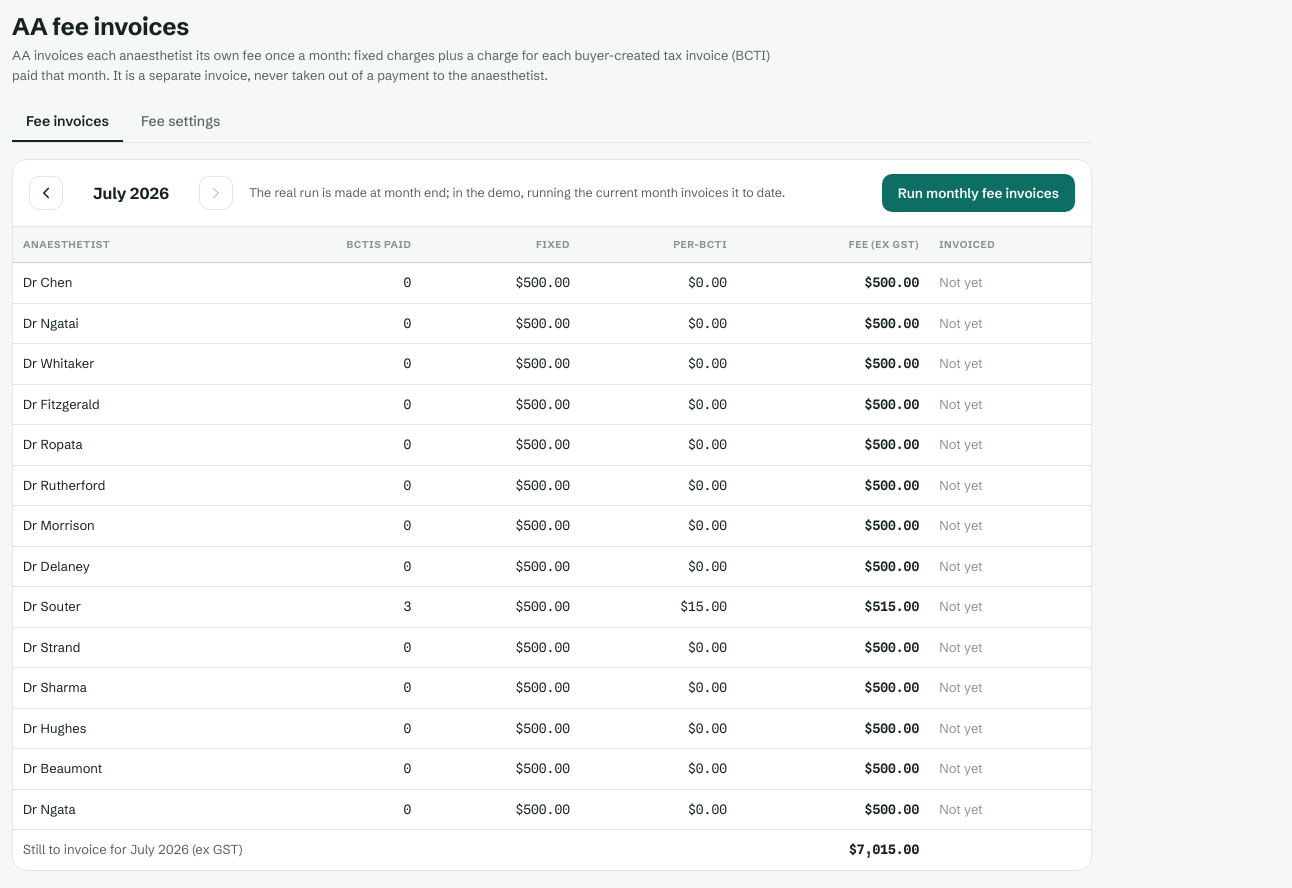
it: AA fee invoices screen (catch-up Phase 16) › previews every active anaesthetist for the month and a run adds their invoices
This screenshot has width=1292, height=888.
What coordinates should you click on to do the following:
click the button "Run monthly fee invoices"
I would click on:
 (978, 193)
Its box is 882,174 -> 1075,212.
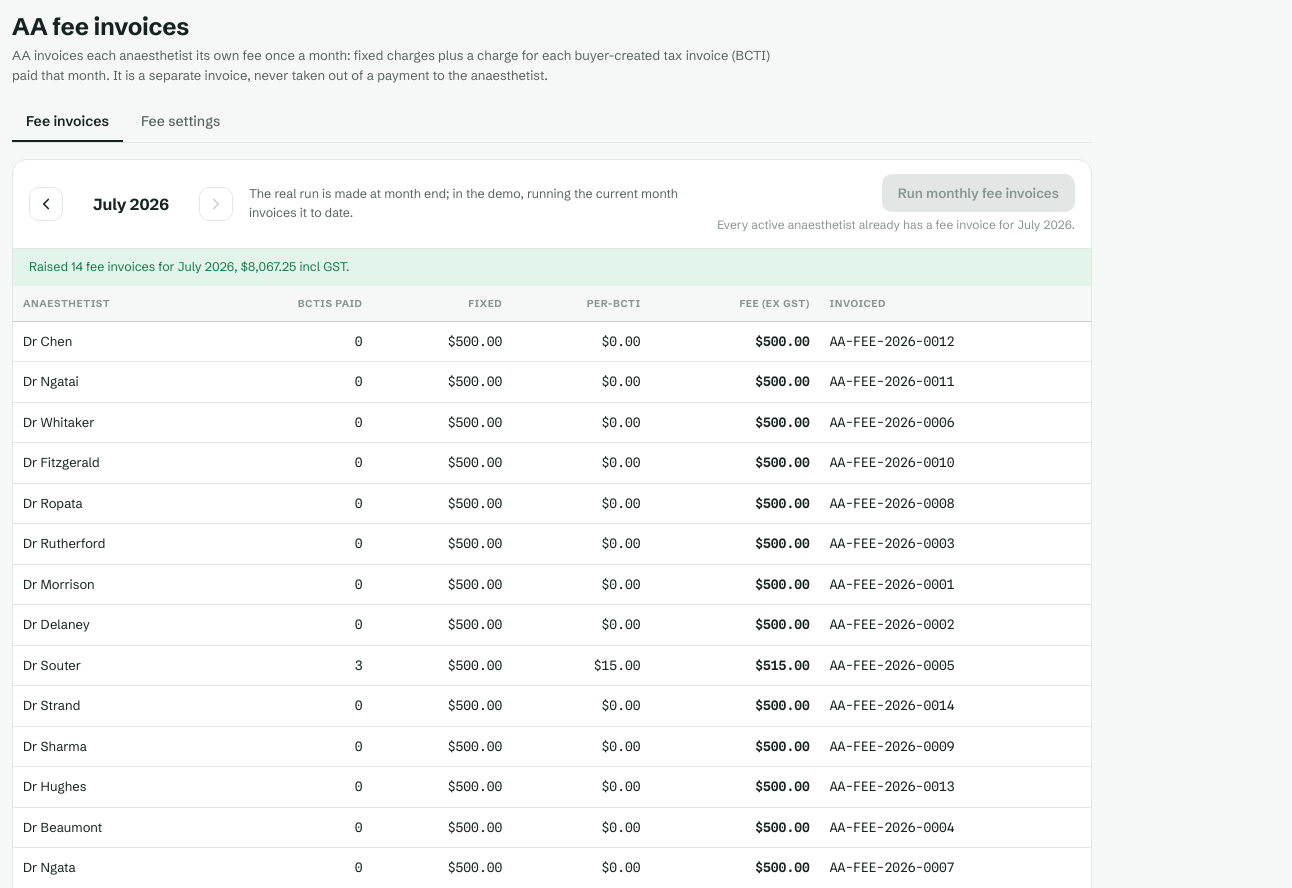
Expected: the button "Run monthly fee invoices" is disabled, 882,174 -> 1075,212
Expected: the text "Every active anaesthetist already has a fee invoice for July 2026." is shown, 717,216 -> 1075,234
